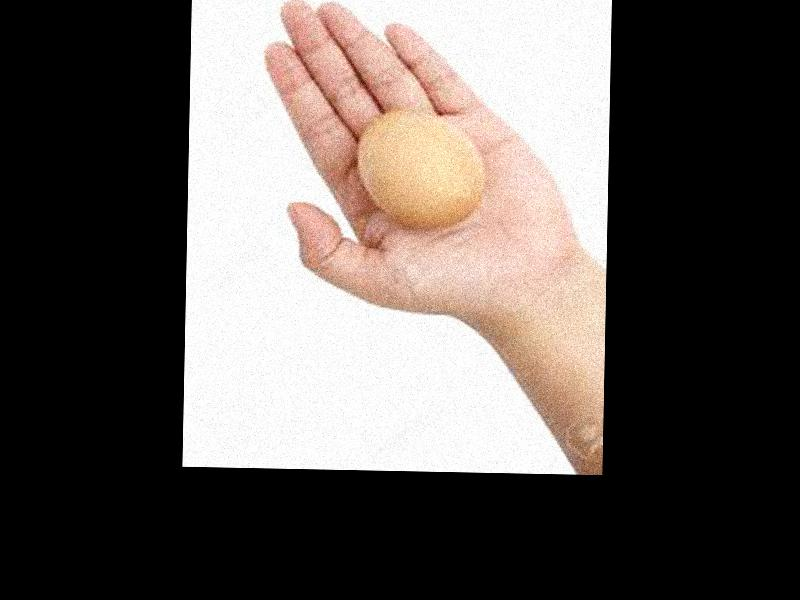Eggs: (357, 112, 485, 230)
